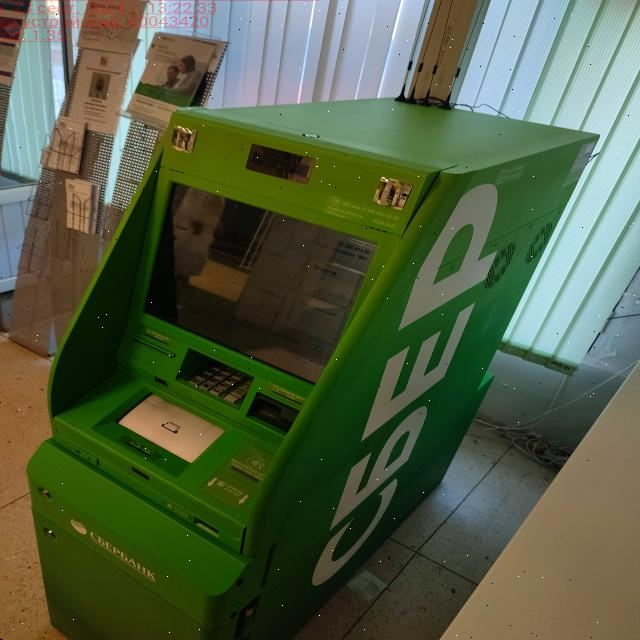bank: (29, 87, 604, 640)
